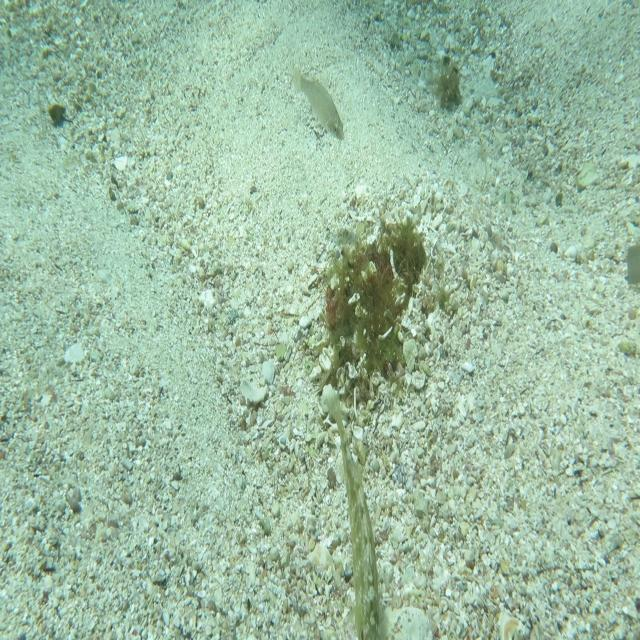SA: (322, 390, 385, 640)
core_nest: (376, 242, 417, 274)
female: (290, 63, 346, 142)
nest: (317, 214, 441, 409)
